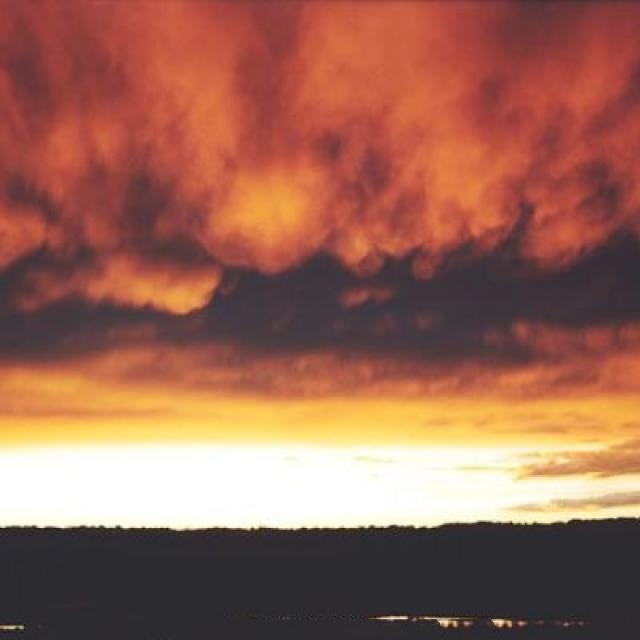As: (1, 47, 640, 454)
